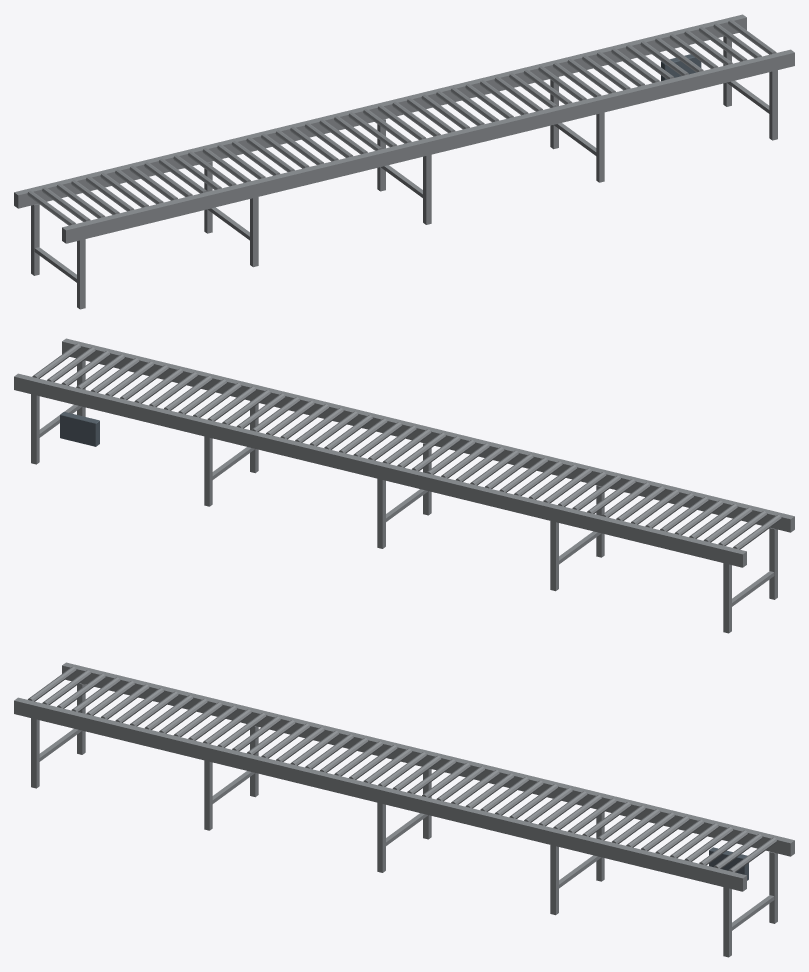
The model's file is prop_conveyor_roller.glb.
The picture shows the model from 3 angles, top to bottom: view 1: azimuth 30°, elevation 25°; view 2: azimuth 150°, elevation 25°; view 3: azimuth 330°, elevation 25°; orthographic projection.
Visible parts, largest first — view 1: Conveyor; view 2: Conveyor; view 3: Conveyor.
Boxes of the visible parts, left/top/right/bottom form: Conveyor: left=14, top=14, right=794, bottom=309; Conveyor: left=14, top=338, right=794, bottom=633; Conveyor: left=14, top=662, right=794, bottom=957.
Size of what is drawn, in the model's own units: 7.99 by 0.9 by 0.99.
